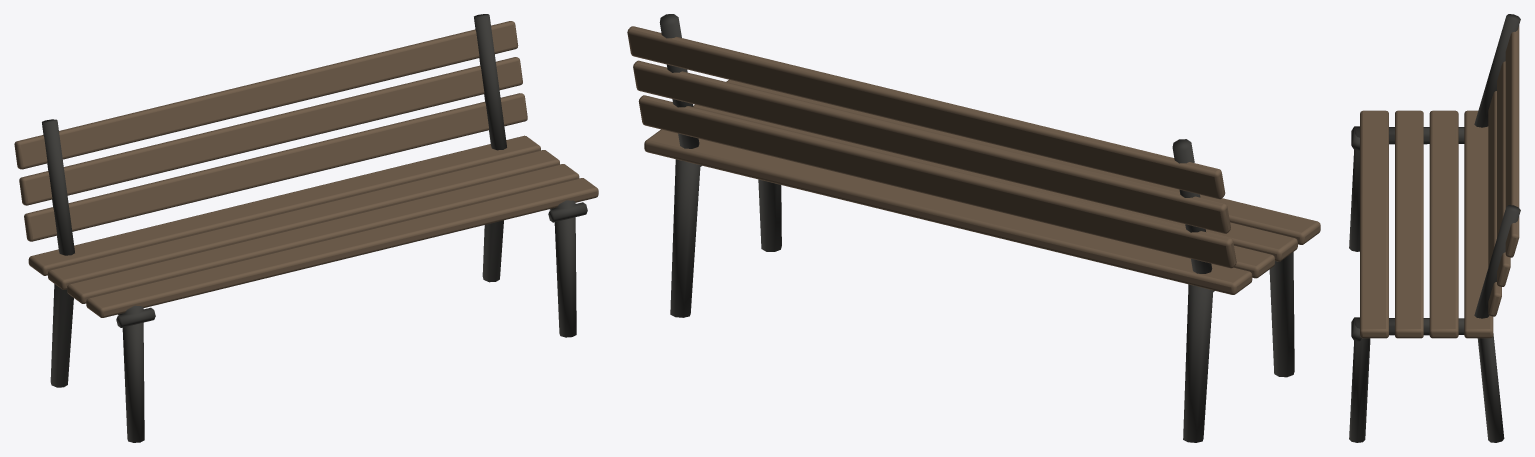
File: park_bench_old.fbx
The picture shows the model from 3 angles, left to right: view 1: azimuth 30°, elevation 25°; view 2: azimuth 150°, elevation 25°; view 3: azimuth 270°, elevation 25°; orthographic projection. The views are drawn at different scales.
Visible parts, largest first — view 1: park_bench_old; view 2: park_bench_old; view 3: park_bench_old.
Part boxes in pixels (x1,y1,x2,y2): park_bench_old: (14,14,598,442); park_bench_old: (627,14,1320,442); park_bench_old: (1349,14,1520,442).
Bounding box in the file's own units: 1.8 × 0.8893 × 0.5931.
